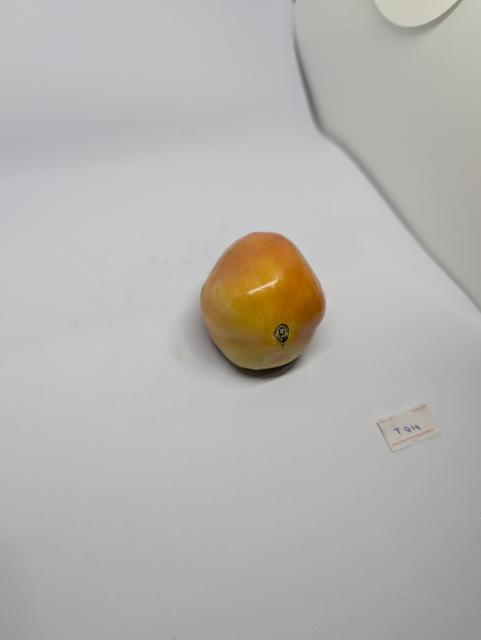turning: (195, 224, 340, 380)
